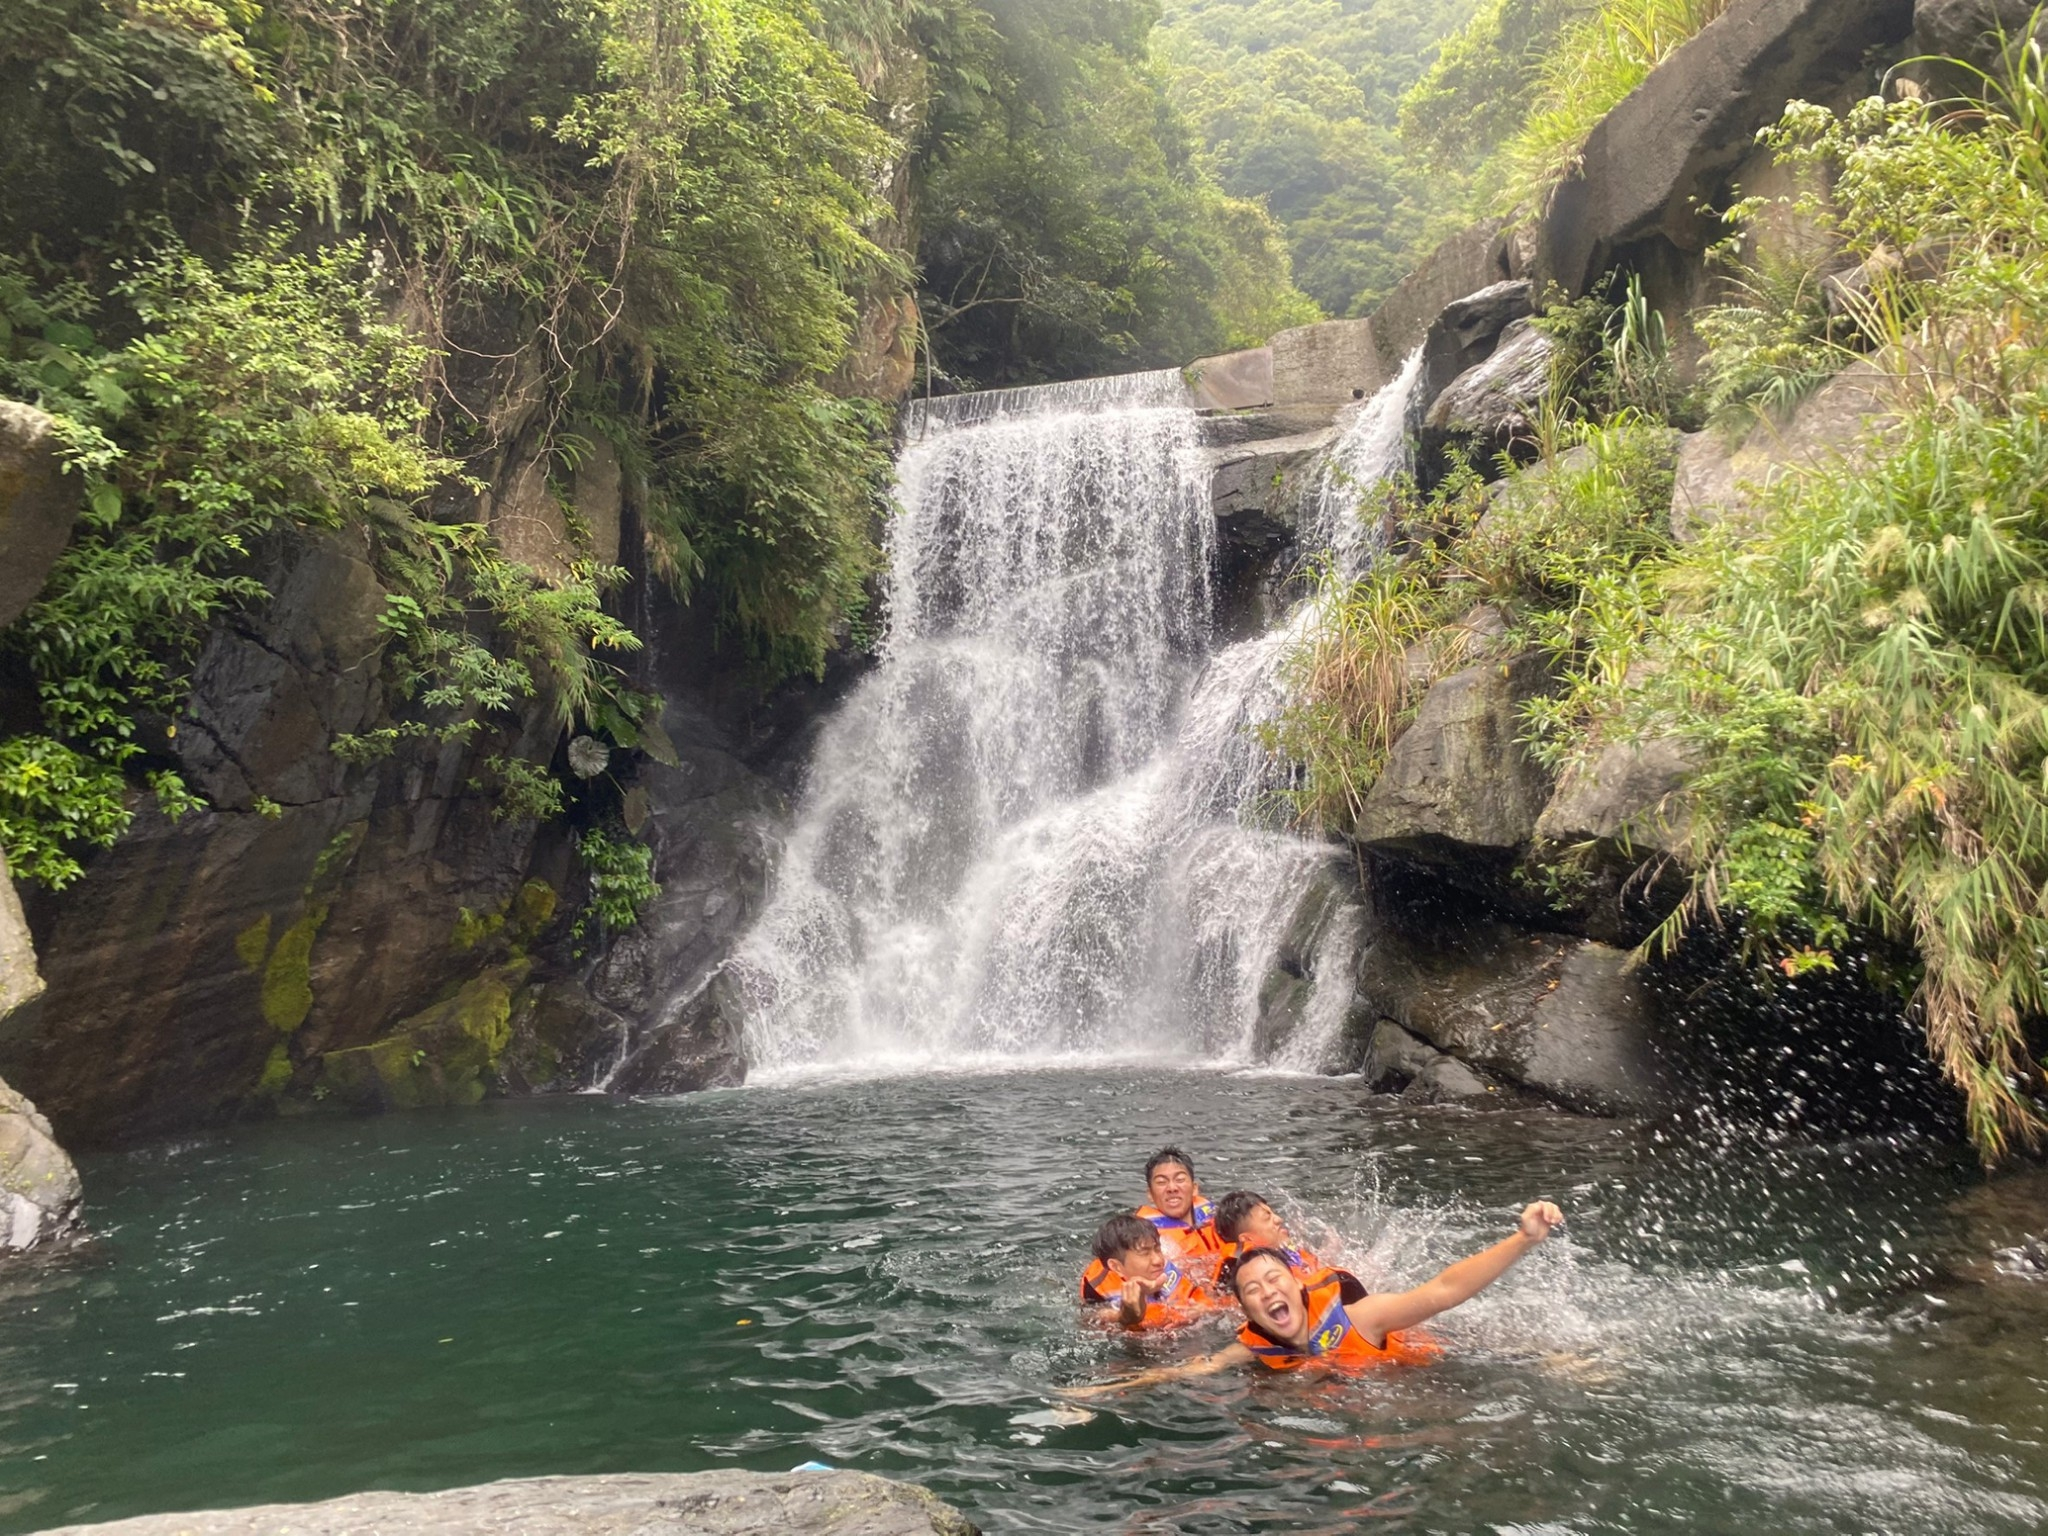people: (1237, 1266, 1381, 1381), (1122, 1149, 1231, 1284), (1102, 1228, 1196, 1372), (1225, 1205, 1319, 1284)
